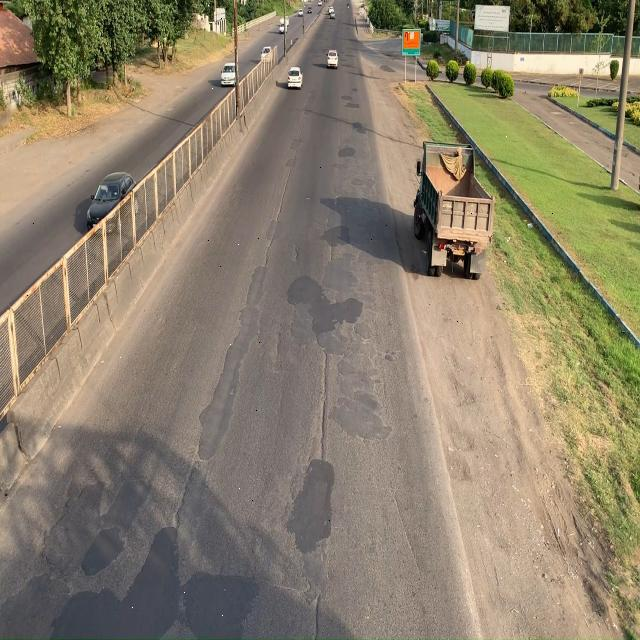Truck: (411, 140, 495, 280)
cars: (86, 175, 140, 238)
